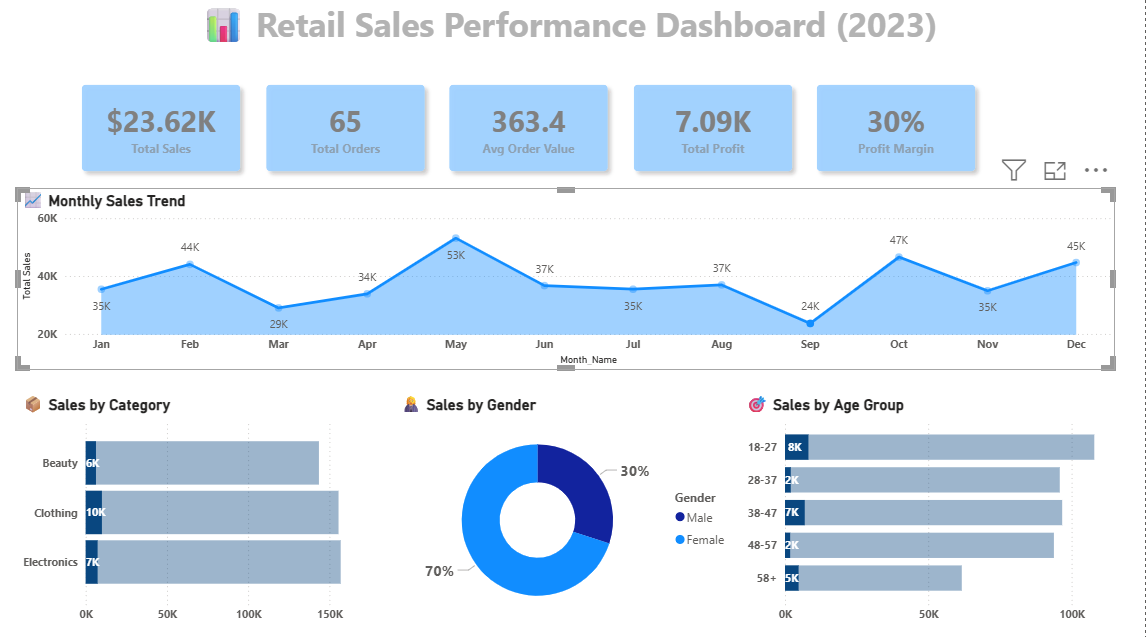

What the dashboard file says about the page in this screenshot:
{"tool":"powerbi","page":{"name":"Page 1","canvas":[1280,720],"ordinal":0},"visuals":[{"type":"cardVisual","fields":{"Data":["retail_dw fact_sales.Total Sales"]},"box":[76.7,76.7,220,140],"z":0},{"type":"cardVisual","fields":{"Data":["retail_dw fact_sales.Total Orders"]},"box":[280.8,76.7,220,140],"z":1000},{"type":"cardVisual","fields":{"Data":["retail_dw fact_sales.Avg Order Value"]},"box":[485,76.7,220,140],"z":2000},{"type":"cardVisual","fields":{"Data":["retail_dw fact_sales.Profit Margin"]},"box":[893.3,76.7,220,140],"z":3000},{"type":"cardVisual","fields":{"Data":["retail_dw fact_sales.Total Profit"]},"box":[689.2,76.7,220,140],"z":4000},{"type":"lineChart","title":"📈 Monthly Sales Trend","fields":{"Y":["retail_dw fact_sales.Total Sales"],"Category":["retail_dw dim_date.Month_Name"]},"box":[25.9,213.7,1220.9,200.8],"z":5000},{"type":"barChart","title":"📦 Sales by Category","fields":{"Category":["retail_dw dim_product.Product_Category"],"Y":["retail_dw fact_sales.Total Sales"]},"box":[25.9,440,420,265],"z":6000},{"type":"donutChart","title":"👩💼 Sales by Gender","fields":{"Category":["retail_dw dim_customer.Gender"],"Y":["retail_dw fact_sales.Sales %"]},"box":[446,440,381.7,264.6],"z":7000},{"type":"barChart","title":"🎯 Sales by Age Group","fields":{"Category":["retail_dw dim_customer.Age_Group"],"Y":["retail_dw fact_sales.Total Sales"]},"box":[831.7,440,448.3,265],"z":8000},{"type":"textbox","box":[0,0,1280,88.6],"z":9000}]}

Visuals, with their boxes in screenshot pixels (x1, y1, x2, y2), scaled from the page's 1280x720 canvas onto the 1146x637 screenshot:
cardVisual - retail_dw fact_sales.Total Sales: 69:68:266:192
cardVisual - retail_dw fact_sales.Total Orders: 251:68:448:192
cardVisual - retail_dw fact_sales.Avg Order Value: 434:68:631:192
cardVisual - retail_dw fact_sales.Profit Margin: 800:68:997:192
cardVisual - retail_dw fact_sales.Total Profit: 617:68:814:192
"📈 Monthly Sales Trend" lineChart: 23:189:1116:367
"📦 Sales by Category" barChart: 23:389:399:624
"👩💼 Sales by Gender" donutChart: 399:389:741:623
"🎯 Sales by Age Group" barChart: 745:389:1145:624
textbox: 0:0:1145:78
